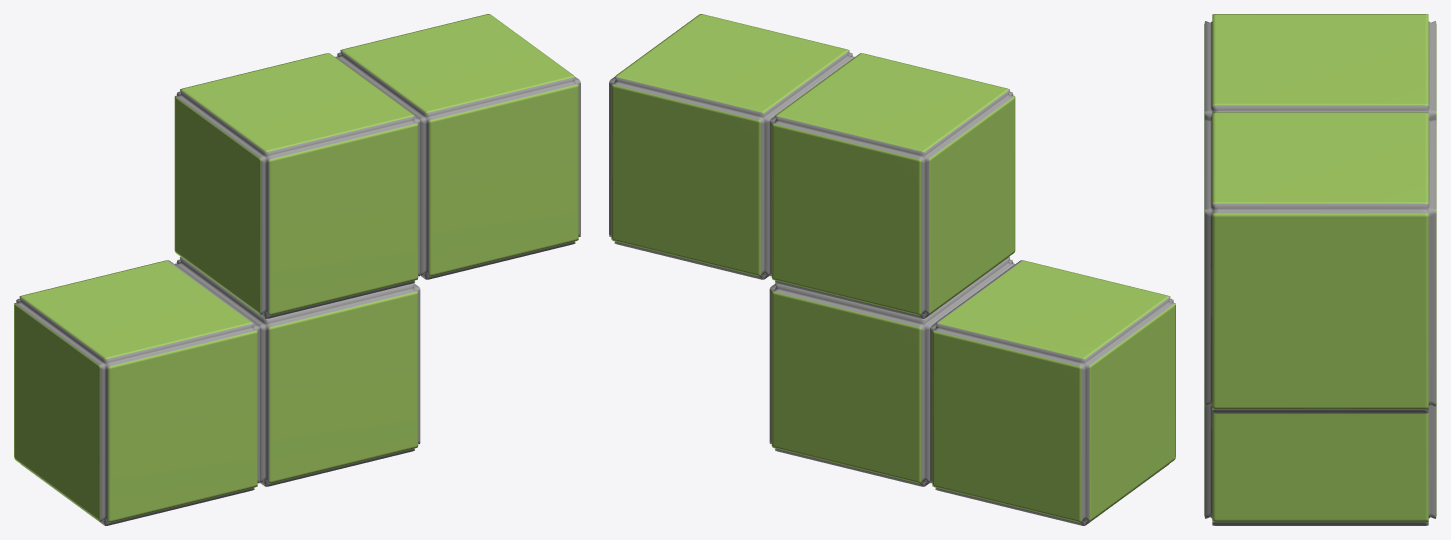
Rendered from greenTetrinimous.fbx.
3 views of the same model, side by side, from view 1: azimuth 30°, elevation 25°; view 2: azimuth 150°, elevation 25°; view 3: azimuth 270°, elevation 25° (orthographic). The views are drawn at different scales.
Parts seen in each view (by area): view 1: greenTetrinimous; view 2: greenTetrinimous; view 3: greenTetrinimous.
Boxes of the visible parts, x1,y1,x2,y2 form: greenTetrinimous: [14, 14, 580, 525]; greenTetrinimous: [609, 14, 1175, 525]; greenTetrinimous: [1204, 14, 1436, 525].
Size of the model in its own units: 3.03 by 2.02 by 1.01.
